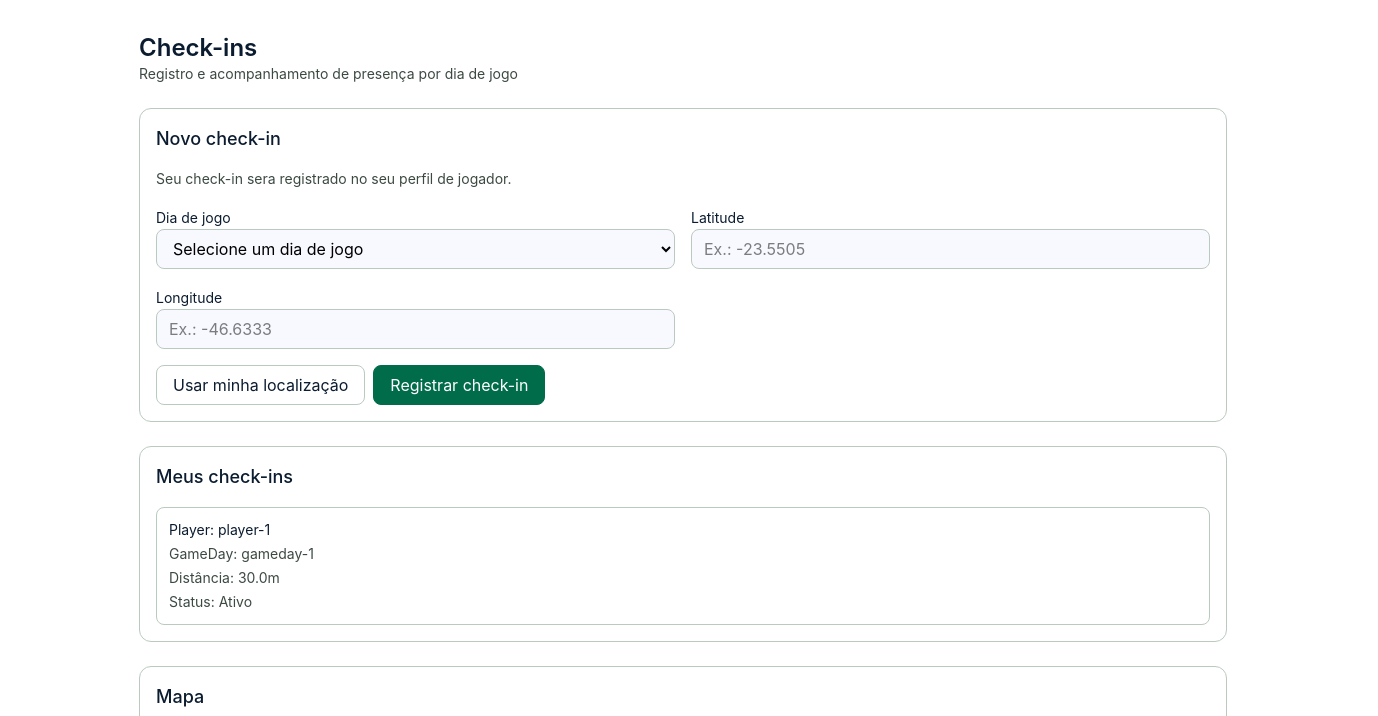
Test: CheckinsPage › deve preencher latitude e longitude ao usar geolocalização com sucesso
The image size is (1378, 716).
Click the button "Usar minha localização" at [261, 385], box left=156, top=365, right=365, bottom=405
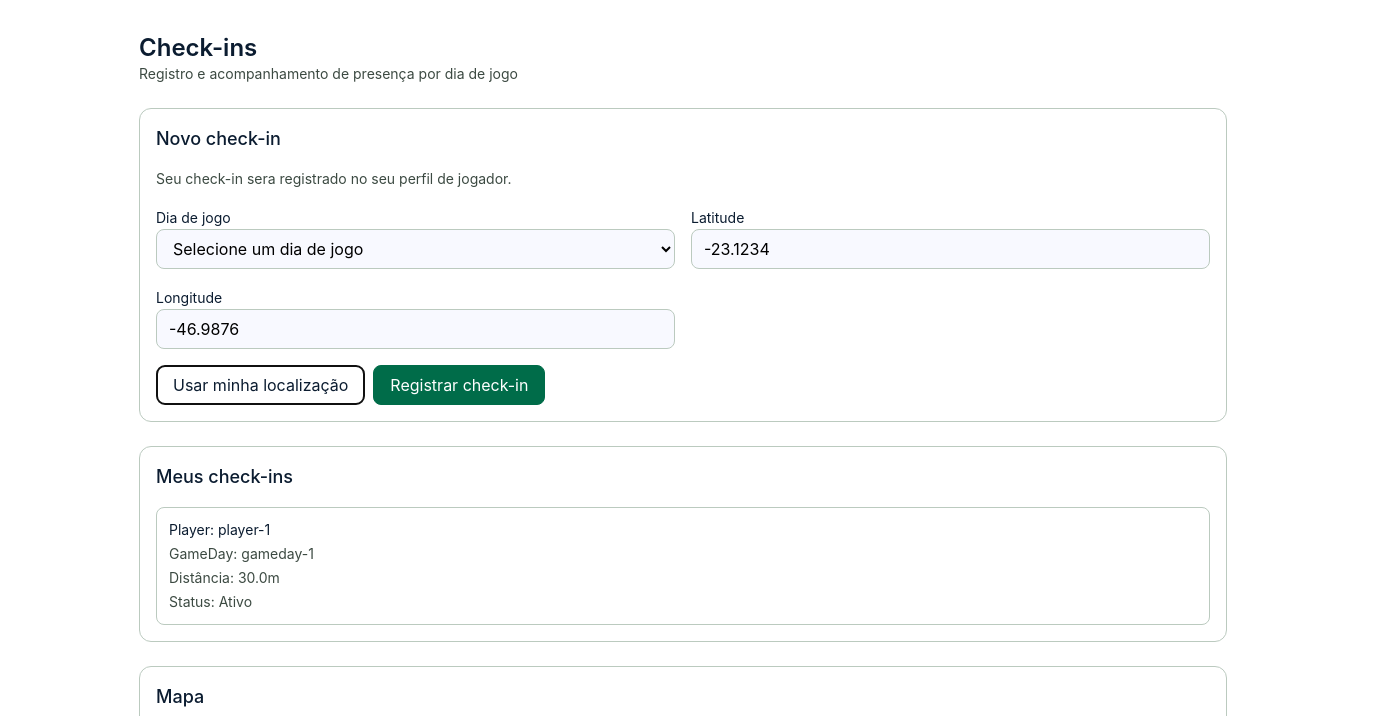
Check: the number field labelled "Latitude" holds "-23.1234", box left=691, top=229, right=1210, bottom=269
Check: the number field labelled "Longitude" holds "-46.9876", box left=156, top=309, right=675, bottom=349
